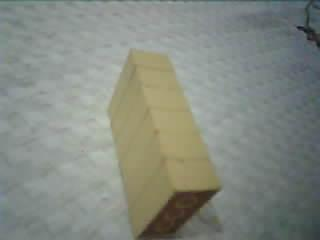lego: (105, 49, 222, 240)
